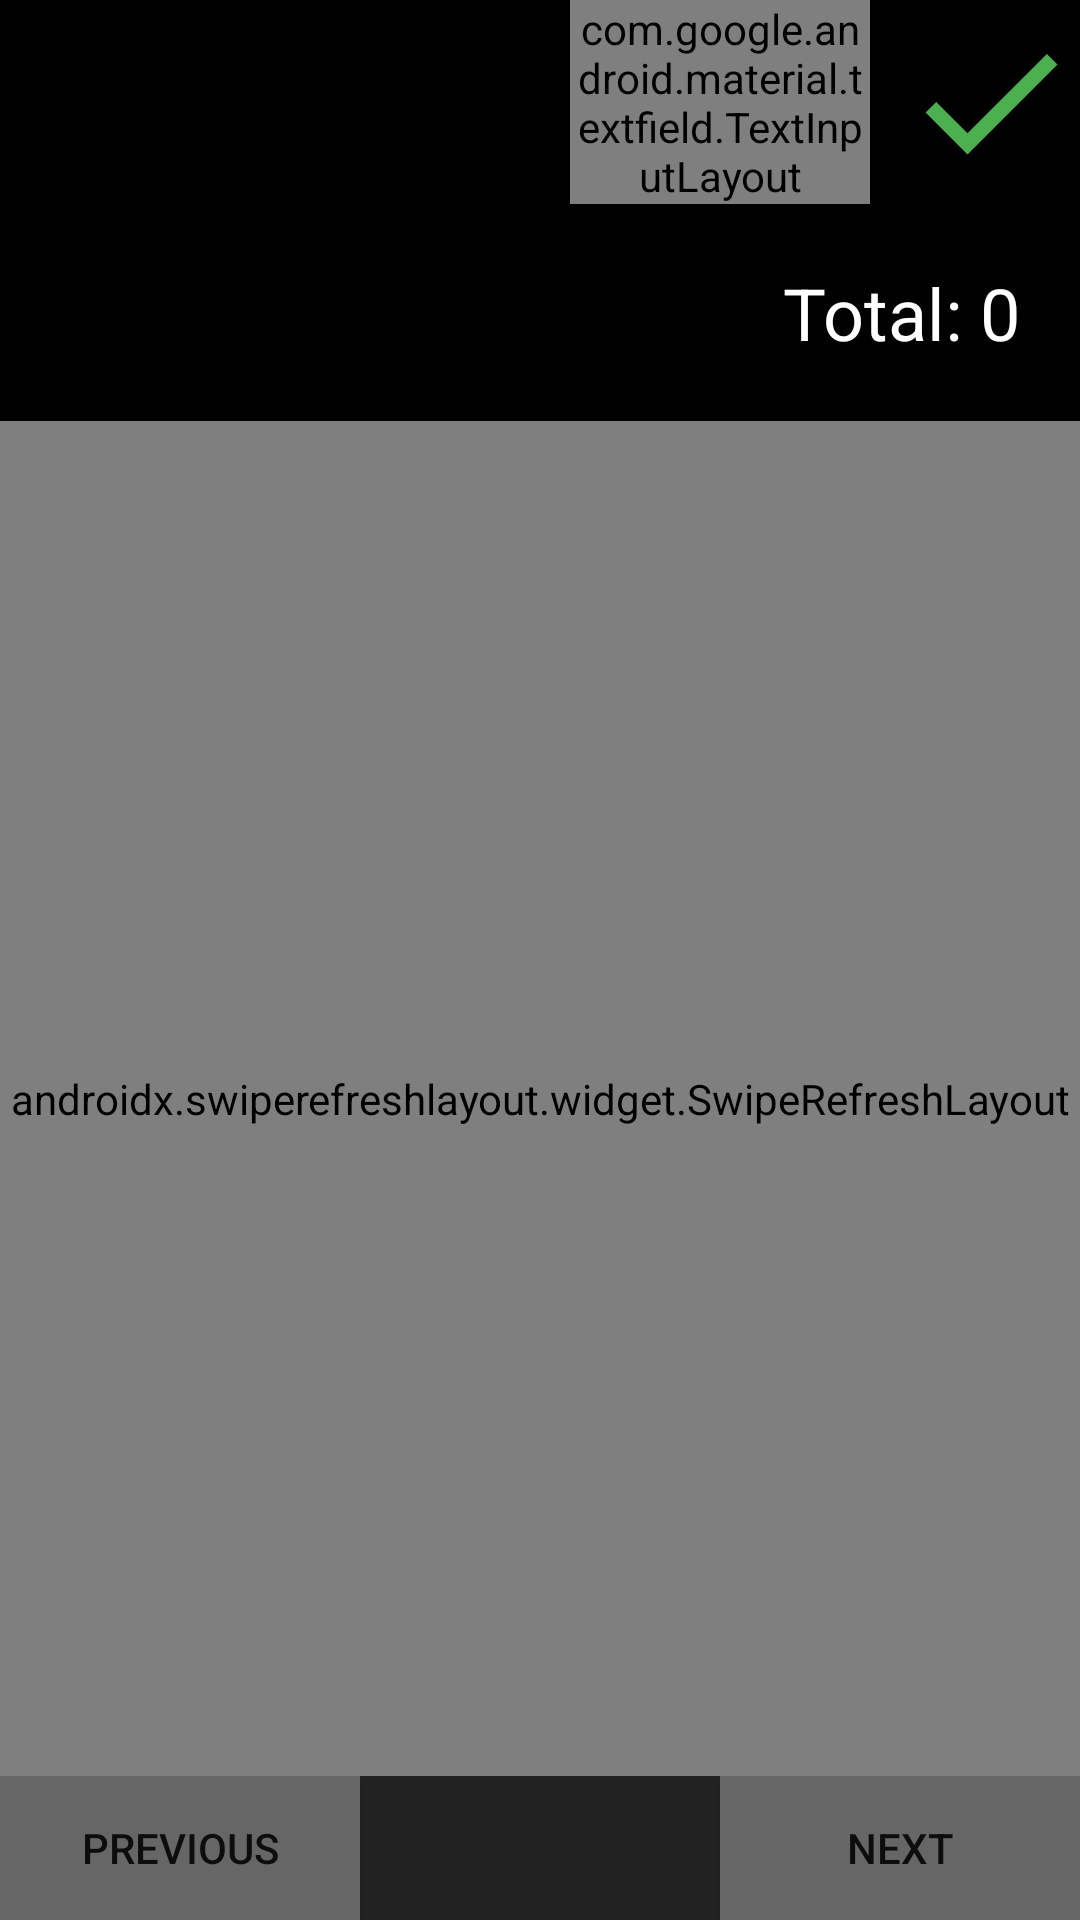

Screen size 1080 × 1920. Icon name, then its box in pixels as bbox(x1, y1, x2, y2):
check: bbox(925, 54, 1058, 155)
